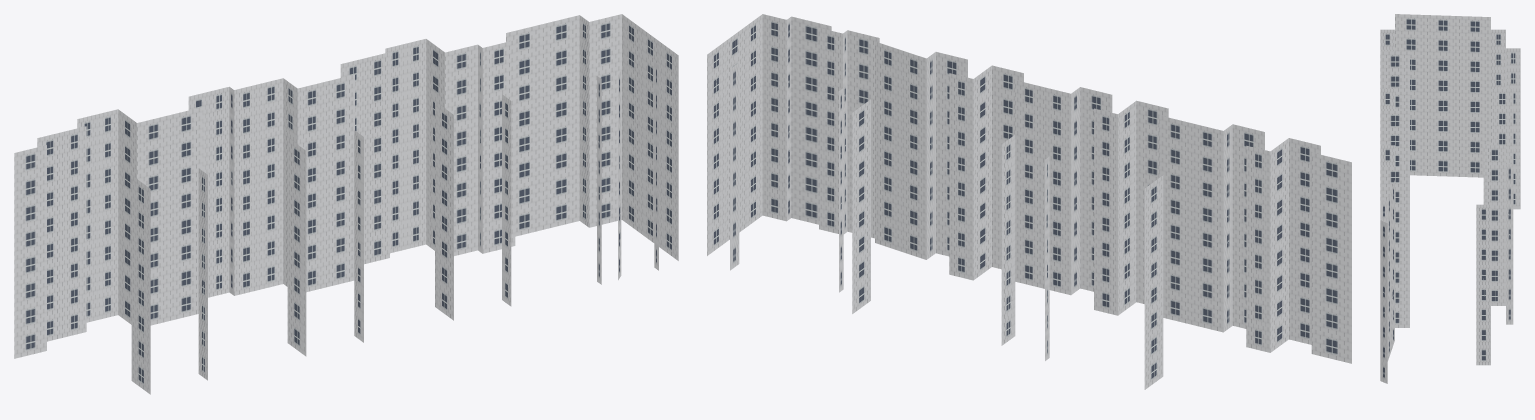
The picture shows the model from 3 angles, left to right: view 1: azimuth 30°, elevation 25°; view 2: azimuth 150°, elevation 25°; view 3: azimuth 270°, elevation 25°; orthographic projection. The views are drawn at different scales.
Bounding box in the file's own units: 74 × 24 × 19.
2 materials, 1 textured.
